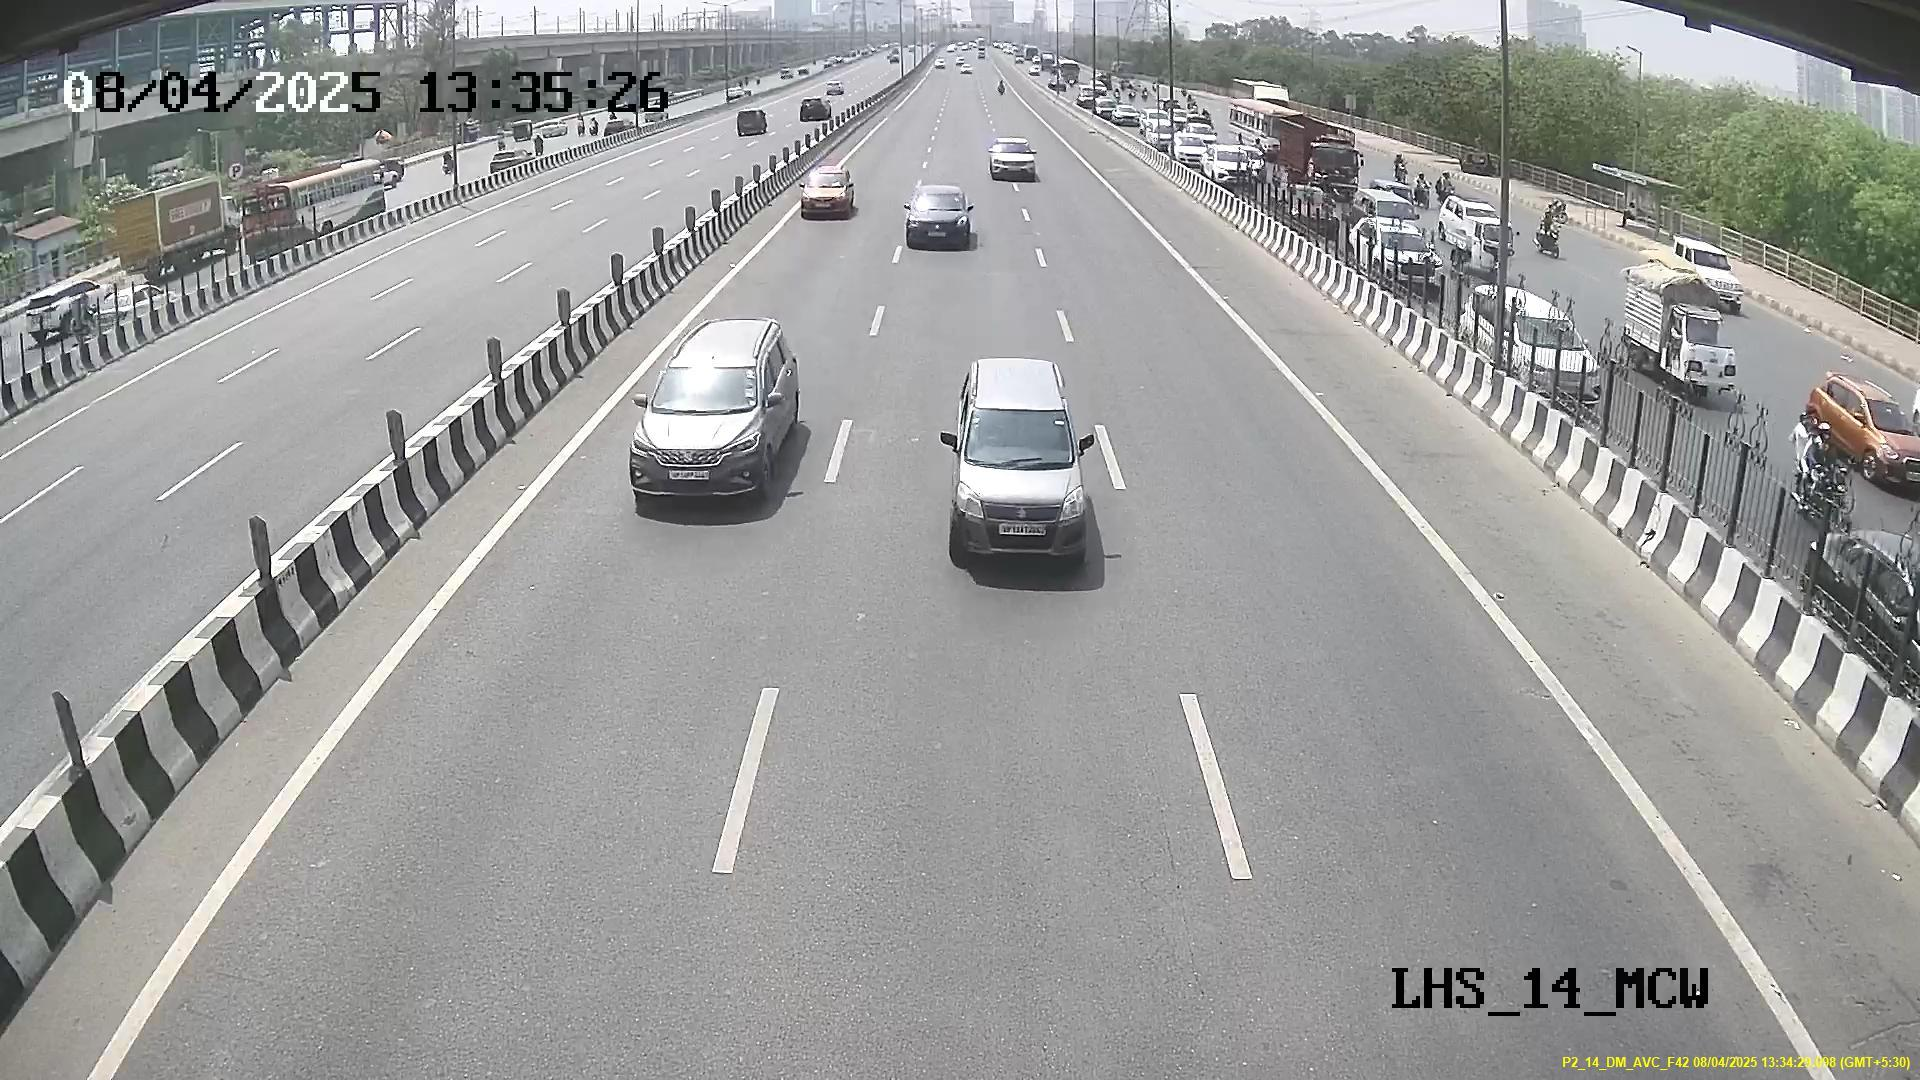car: (948, 376, 1091, 572), (626, 345, 793, 509), (905, 189, 977, 253), (794, 169, 856, 223), (988, 140, 1039, 186)
